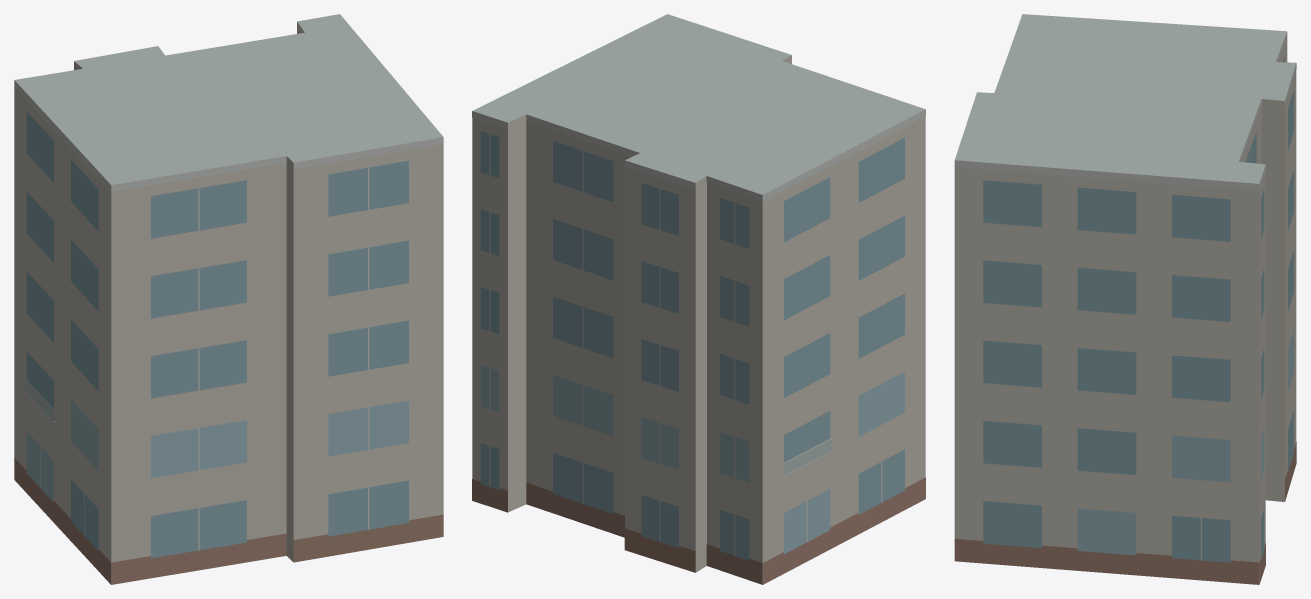
The model's file is survey-upis-32764064.glb.
The picture shows the model from 3 angles, left to right: view 1: azimuth 30°, elevation 25°; view 2: azimuth 150°, elevation 25°; view 3: azimuth 270°, elevation 25°; orthographic projection. The views are drawn at different scales.
Visible parts, largest first — view 1: survey-upis-32764064.tmp; view 2: survey-upis-32764064.tmp; view 3: survey-upis-32764064.tmp.
Boxes of the visible parts, <box> form: survey-upis-32764064.tmp: <box>14,14,443,584</box>; survey-upis-32764064.tmp: <box>472,14,925,584</box>; survey-upis-32764064.tmp: <box>954,14,1296,584</box>.
Bounding box in the file's own units: 12.82 × 14.1 × 10.9.
